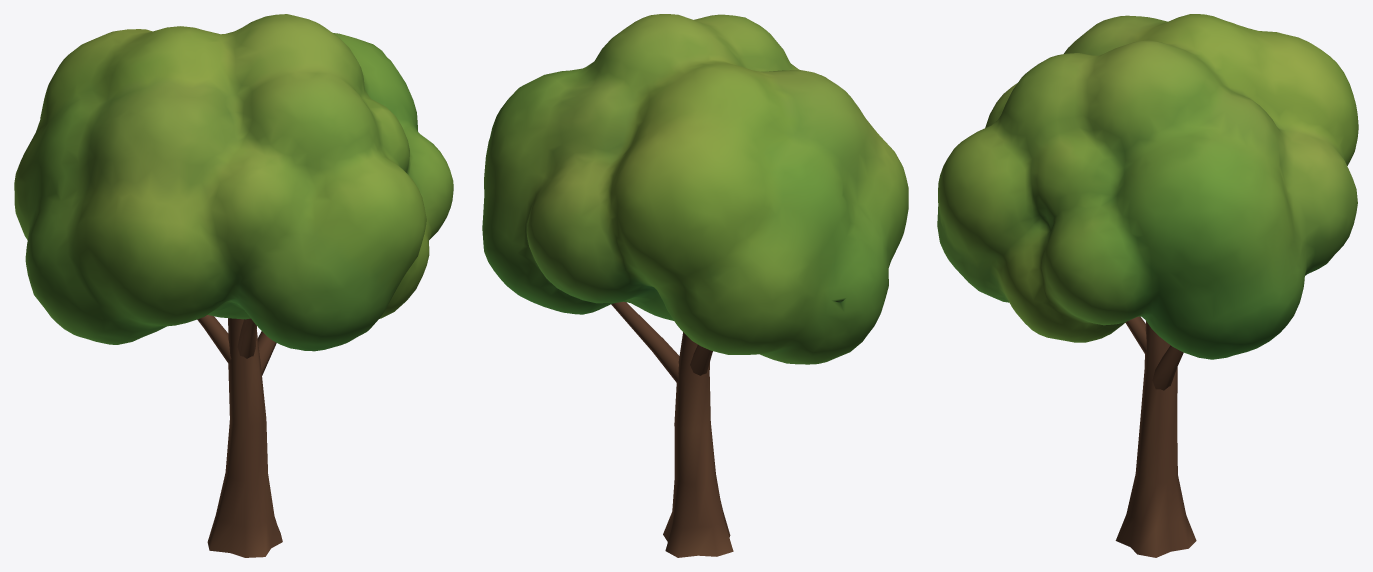
File: tree_round.glb
3 renders of one model, left to right at view 1: azimuth 30°, elevation 25°; view 2: azimuth 150°, elevation 25°; view 3: azimuth 270°, elevation 25°, orthographic.
Visible parts, largest first — view 1: tree_round; view 2: tree_round; view 3: tree_round.
Part boxes in pixels (left/top/right/bottom): tree_round: left=14, top=14, right=453, bottom=557; tree_round: left=482, top=14, right=908, bottom=557; tree_round: left=937, top=14, right=1358, bottom=557.
Size of the model in its own units: 5.2 by 6.79 by 5.08.
